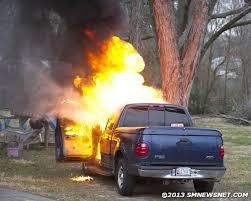fire: (62, 32, 165, 156)
